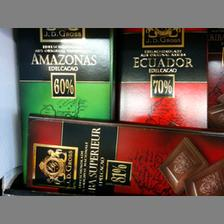Schokolade: (21, 112, 223, 196), (14, 27, 114, 117), (122, 27, 208, 126)
